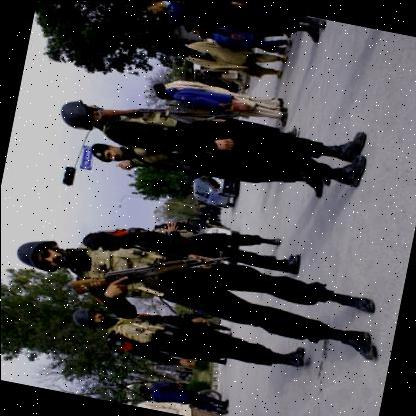rifle: (69, 219, 239, 328), (91, 79, 243, 149)
